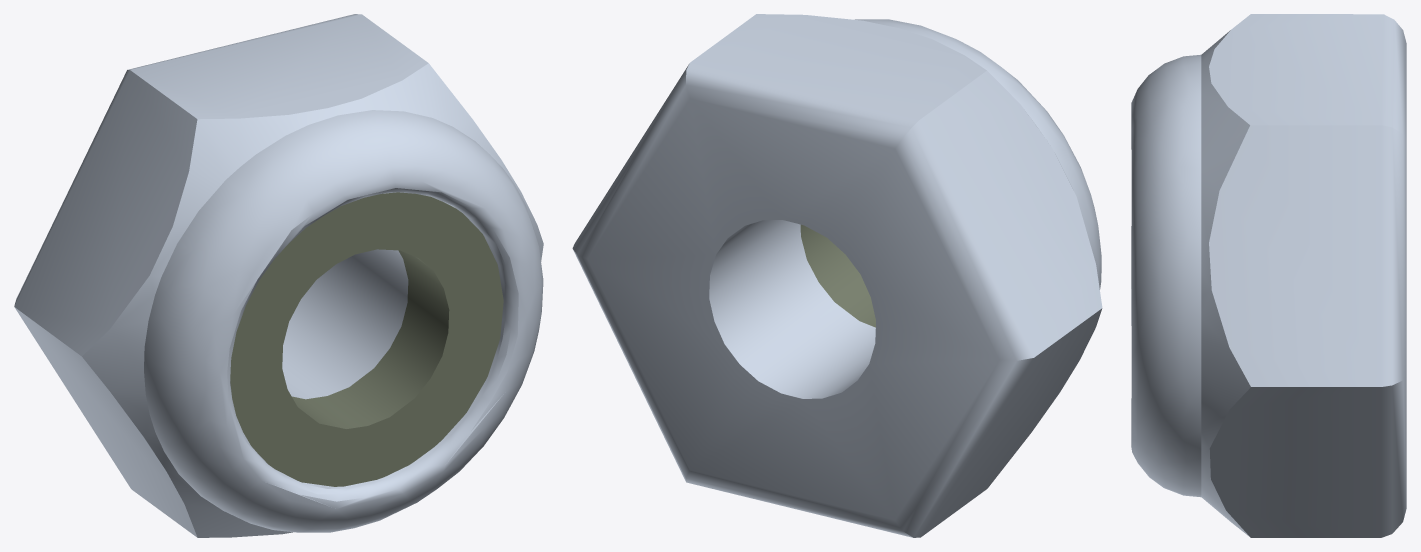
File: _8-32_Nylock_Nut__275-1027_.glb
The picture shows the model from 3 angles, left to right: view 1: azimuth 30°, elevation 25°; view 2: azimuth 150°, elevation 25°; view 3: azimuth 270°, elevation 25°; orthographic projection.
Parts seen in each view (by area): view 1: #8-32 Nylock Nut (275-1027); view 2: #8-32 Nylock Nut (275-1027); view 3: #8-32 Nylock Nut (275-1027).
Part boxes in pixels (x1=…): #8-32 Nylock Nut (275-1027): x1=14, y1=14, x2=543, y2=537; #8-32 Nylock Nut (275-1027): x1=572, y1=14, x2=1102, y2=537; #8-32 Nylock Nut (275-1027): x1=1131, y1=14, x2=1406, y2=537.
Size of the model in its own units: 0.369 by 0.3196 by 0.1932.
